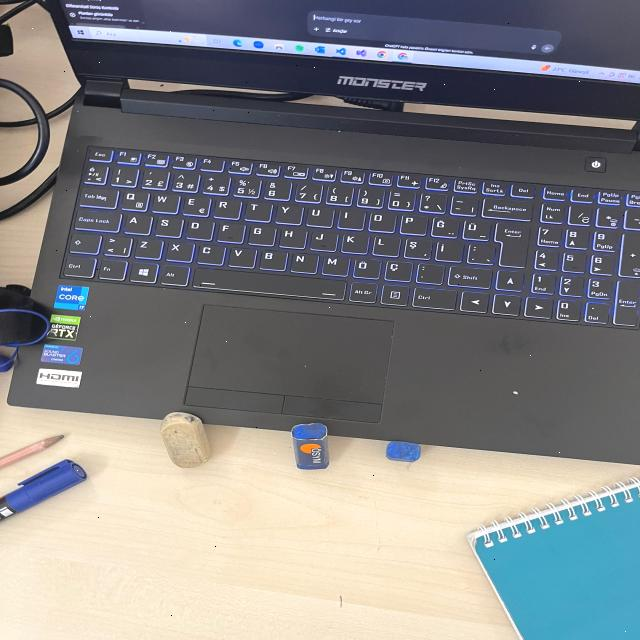eraser: (138, 404, 215, 474), (281, 414, 336, 478), (378, 433, 433, 473)
pencil: (0, 420, 74, 468)
